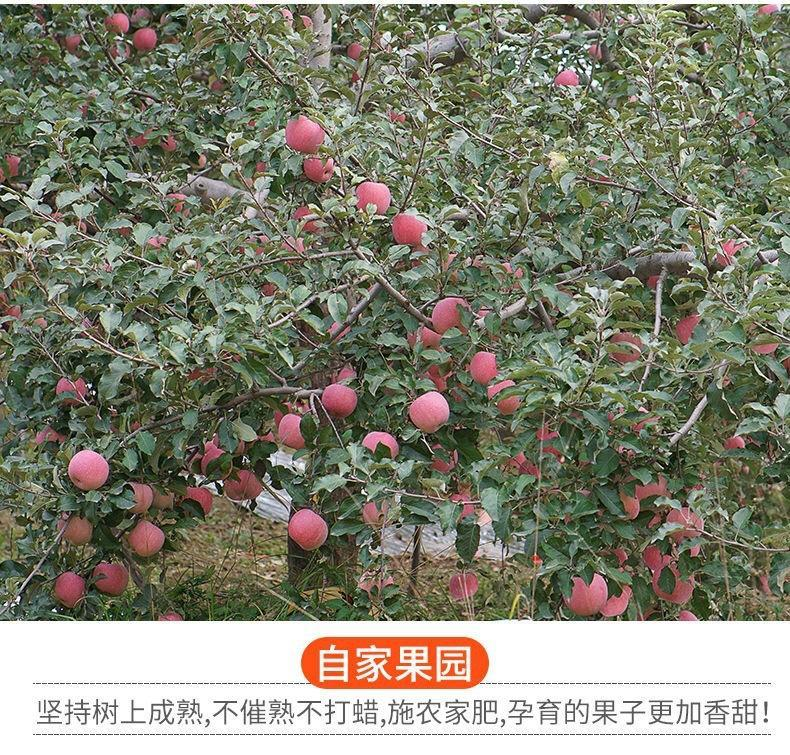apple: (561, 571, 609, 615), (430, 296, 475, 334), (409, 391, 449, 433), (68, 449, 108, 491), (289, 508, 329, 550), (286, 116, 328, 153), (321, 382, 357, 420), (356, 182, 392, 213), (303, 154, 337, 183), (471, 351, 499, 384), (133, 26, 158, 50)
